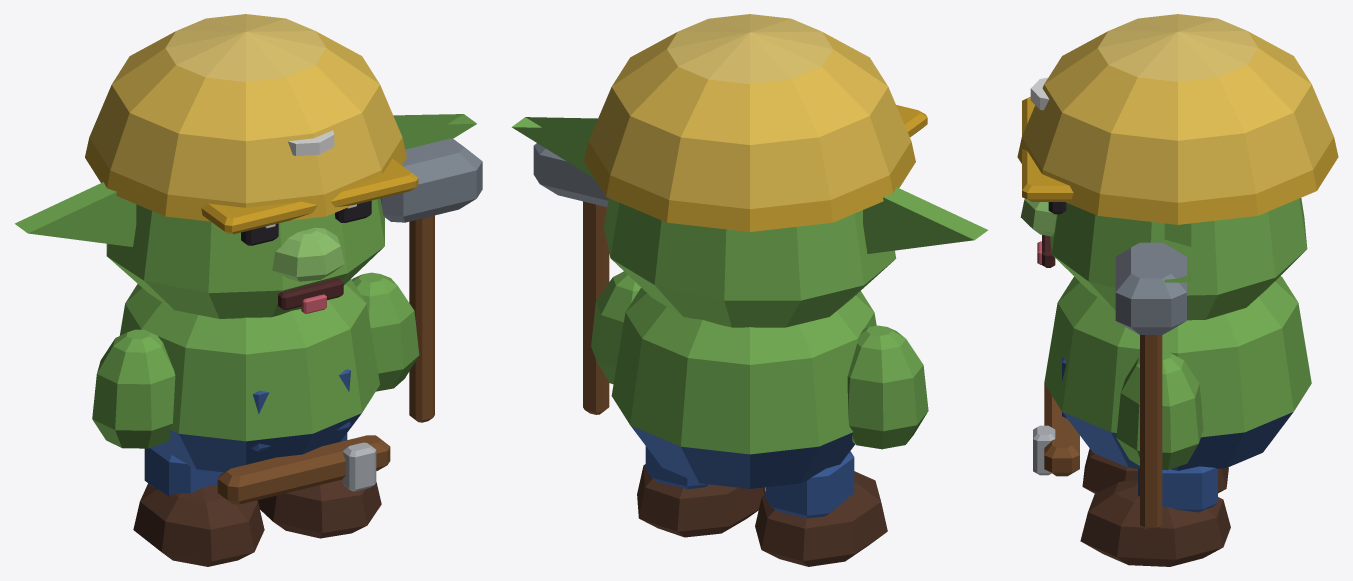
Rendered from pongo.glb.
3 views of the same model, side by side, from view 1: azimuth 30°, elevation 25°; view 2: azimuth 150°, elevation 25°; view 3: azimuth 270°, elevation 25° (orthographic). The views are drawn at different scales.
Visible parts, largest first — view 1: Casca, Trunchi, Cap, Ciocan, PiciorStang, BratStang, PiciorDrept, UrecheStanga, BratDrept, UrecheDreapta, Ochi; view 2: Casca, Trunchi, Cap, PiciorStang, BratStang, Ciocan, PiciorDrept, UrecheStanga, BratDrept, UrecheDreapta; view 3: Casca, Trunchi, Cap, PiciorDrept, Ciocan, BratDrept, PiciorStang, UrecheDreapta.
Part boxes in pixels (x1,y1,x2,y2): Casca: (85,14,418,234); Trunchi: (119,279,390,504); Cap: (106,198,384,318); Ciocan: (380,138,482,422); PiciorStang: (133,446,264,566); BratStang: (92,329,175,448); PiciorDrept: (257,433,381,538); UrecheStanga: (15,182,136,246); BratDrept: (352,272,419,391); UrecheDreapta: (393,114,476,149); Ochi: (241,200,371,245); Casca: (584,14,927,231); Trunchi: (611,287,876,488); Cap: (603,198,896,327); PiciorStang: (755,451,887,566); BratStang: (847,325,928,449); Ciocan: (533,143,609,414); PiciorDrept: (637,446,765,537); UrecheStanga: (863,187,987,253); BratDrept: (591,271,640,384); UrecheDreapta: (511,117,597,177); Casca: (1017,14,1338,224); Trunchi: (1033,276,1311,476); Cap: (1020,198,1307,320); PiciorDrept: (1080,466,1230,566); Ciocan: (1115,242,1186,529); BratDrept: (1116,350,1203,470); PiciorStang: (1082,448,1228,493); UrecheDreapta: (1164,223,1191,282).
Size of the model in its own units: 1.16 by 1.21 by 0.72.
